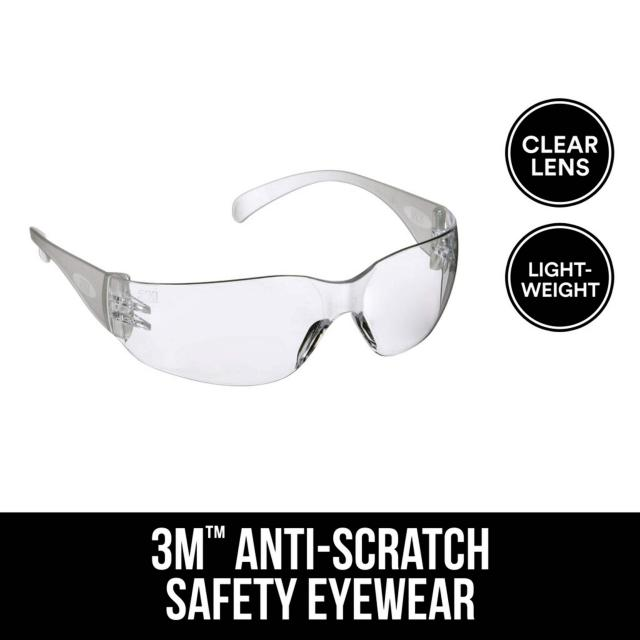Protective Glasses: (1, 155, 473, 405)
